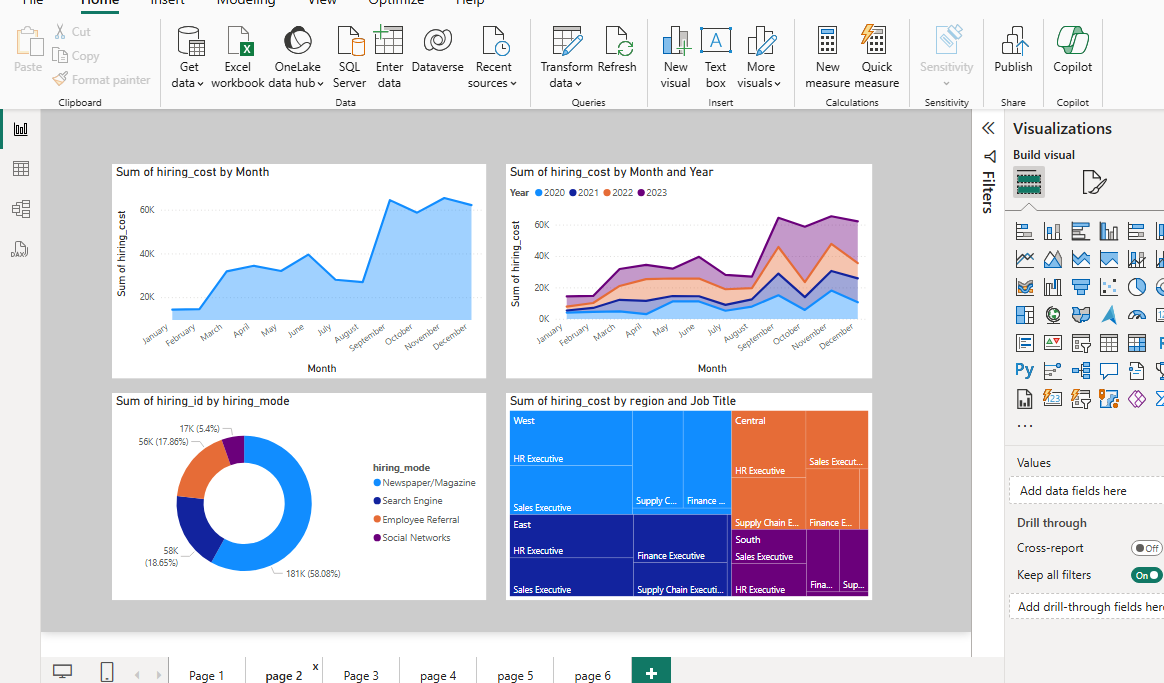

Layout of this report page (visuals, bound fields, positions):
{"tool":"powerbi","page":{"name":"page 2","canvas":[1280,720],"ordinal":1},"visuals":[{"type":"areaChart","fields":{"Category":["hiring data(append).hiring_date.Variation.Date Hierarchy.Month"],"Y":["Sum(hiring data(append).hiring_cost)"]},"box":[97.7,75.7,514.8,294.5],"z":0},{"type":"stackedAreaChart","fields":{"Category":["hiring data(append).hiring_date.Variation.Date Hierarchy.Month"],"Y":["Sum(hiring data(append).hiring_cost)"],"Series":["hiring data(append).hiring_date.Variation.Date Hierarchy.Year"]},"box":[640,75.7,503.7,294.5],"z":1000},{"type":"donutChart","fields":{"Category":["hiring data(append).hiring_mode"],"Y":["Sum(hiring data(append).hiring_id)"]},"box":[97.7,390.9,514.8,284.9],"z":2000},{"type":"treemap","fields":{"Group":["Store Data.region Hierarchy.region","Store Data.region Hierarchy.state"],"Values":["Sum(hiring data(append).hiring_cost)"],"Details":["Employee.Job Title"]},"box":[640,390.9,503.7,284.9],"z":3000}]}

Visuals, with their boxes on the page's 1280x720 design canvas (x1, y1, x2, y2). These are canvas units, not pixel positions in the 1164x683 screenshot, which may show the page scaled, cropped or inside an application window:
areaChart - hiring data(append).hiring_date.Variation.Date Hierarchy.Month x Sum(hiring data(append).hiring_cost): <bbox>98, 76, 612, 370</bbox>
stackedAreaChart - hiring data(append).hiring_date.Variation.Date Hierarchy.Month x Sum(hiring data(append).hiring_cost): <bbox>640, 76, 1144, 370</bbox>
donutChart - hiring data(append).hiring_mode x Sum(hiring data(append).hiring_id): <bbox>98, 391, 612, 676</bbox>
treemap - Store Data.region Hierarchy.region x Store Data.region Hierarchy.state: <bbox>640, 391, 1144, 676</bbox>
